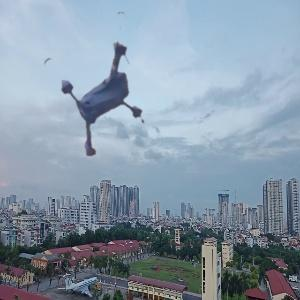drone: (39, 18, 168, 147)
